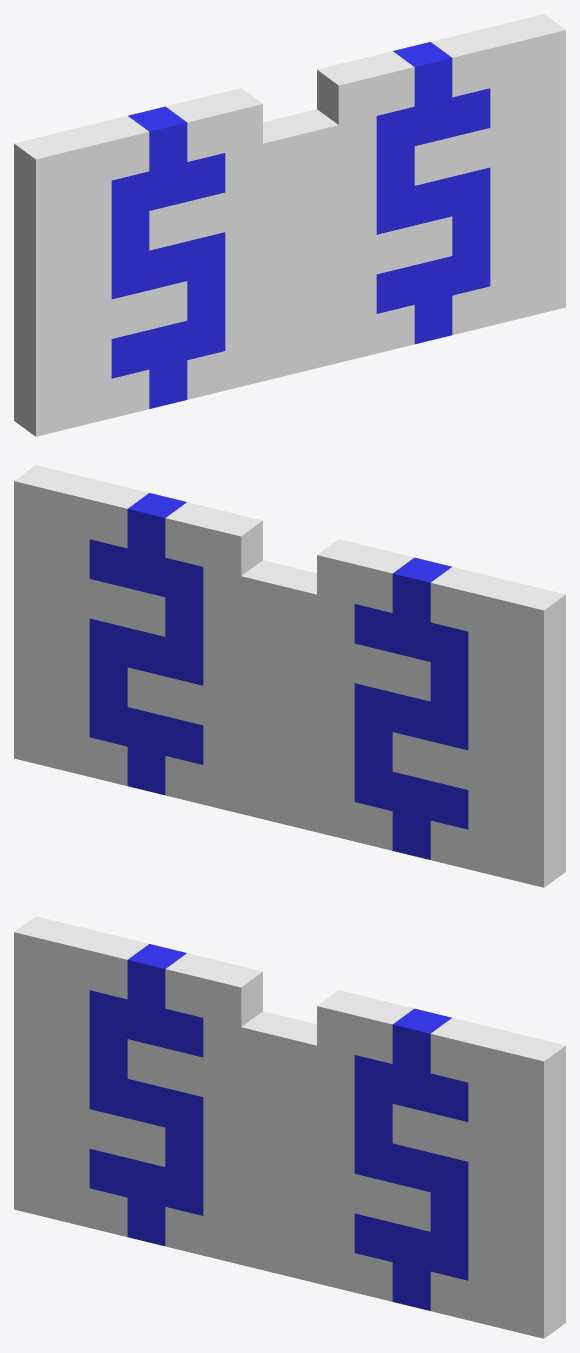
3 renders of one model, top to bottom at view 1: azimuth 30°, elevation 25°; view 2: azimuth 150°, elevation 25°; view 3: azimuth 330°, elevation 25°, orthographic.
Parts seen in each view (by area): view 1: eye-shapes052, eye-shapes006; view 2: eye-shapes052, eye-shapes006; view 3: eye-shapes052, eye-shapes006.
Boxes of the visible parts, x1,y1,x2,y2 form: eye-shapes052: (14, 14, 565, 436); eye-shapes006: (111, 42, 490, 408); eye-shapes052: (14, 465, 565, 887); eye-shapes006: (89, 493, 468, 859); eye-shapes052: (14, 916, 565, 1338); eye-shapes006: (89, 944, 468, 1310).
Bounding box in the file's own units: 140 × 70 × 10.
2 materials, 2 textured.
